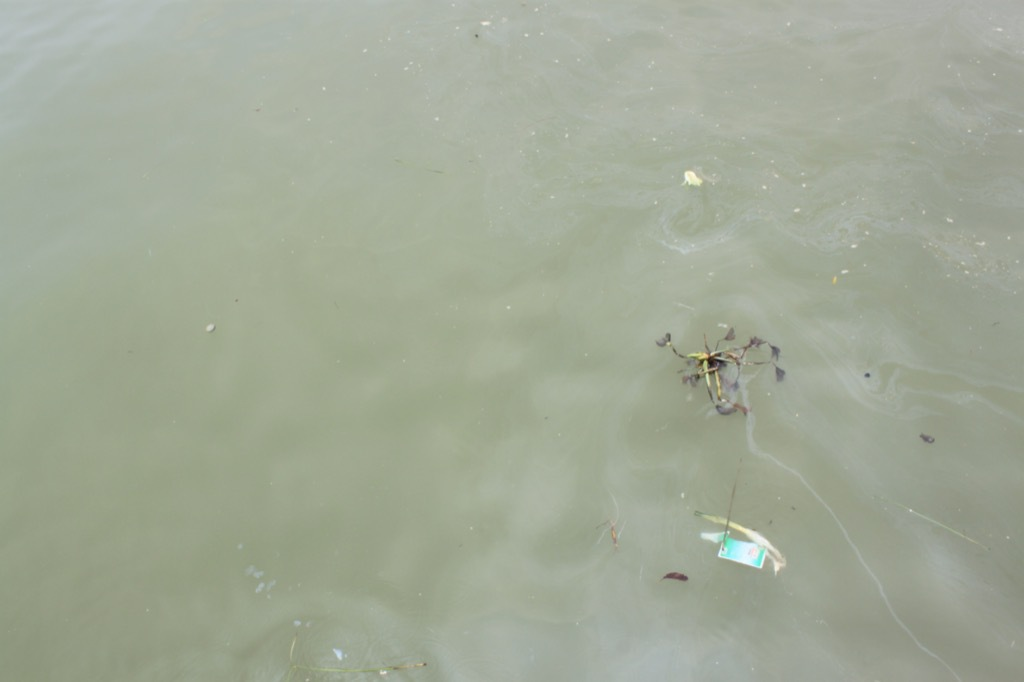organic: (643, 292, 801, 426), (255, 620, 440, 682), (871, 480, 996, 560), (580, 509, 630, 562), (649, 564, 691, 589), (781, 495, 810, 521), (912, 428, 940, 446), (853, 366, 875, 385), (466, 26, 485, 45), (826, 268, 844, 288)
plastic: (691, 518, 768, 574), (673, 160, 718, 200), (190, 313, 229, 345)
